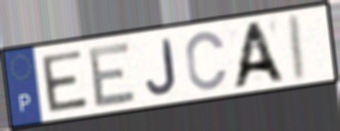A: (229, 19, 288, 91)
C: (184, 29, 230, 93)
E: (87, 39, 139, 111), (38, 48, 91, 115)
I: (288, 11, 309, 84)
J: (144, 37, 179, 96)
